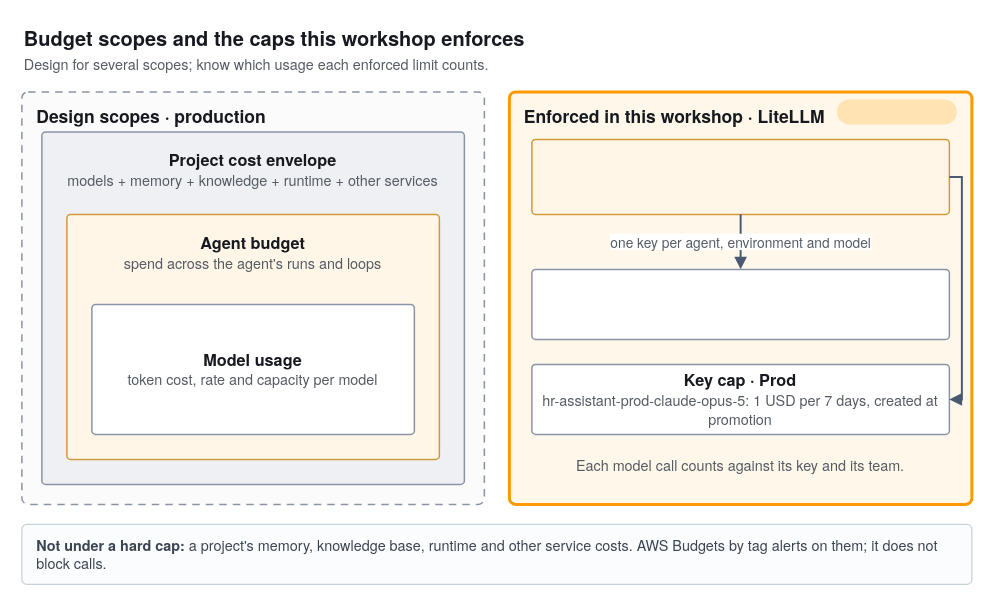
The diagram is 995 pixels wide and 606 high, and some of its shapes have lost their labels. The centre of each missing label's shape, as x and y in pixels:
"Key cap · Dev hr-assistant-dev-claude-opus-5: 1 USD per 7 days" belongs at [739,304].
"Team cap · one per project hr-assistant: 5 USD per 7 days, tpm and rpm limits" belongs at [739,176].
"this workshop" belongs at [896,111].
